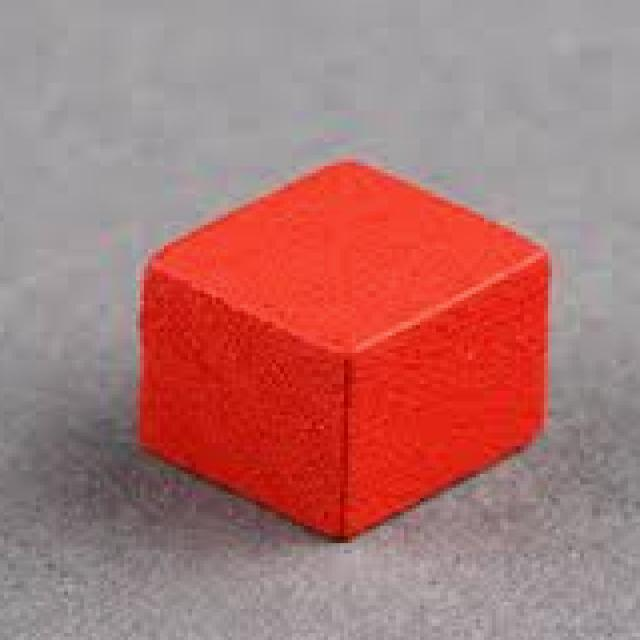red cube: (135, 153, 554, 545)
